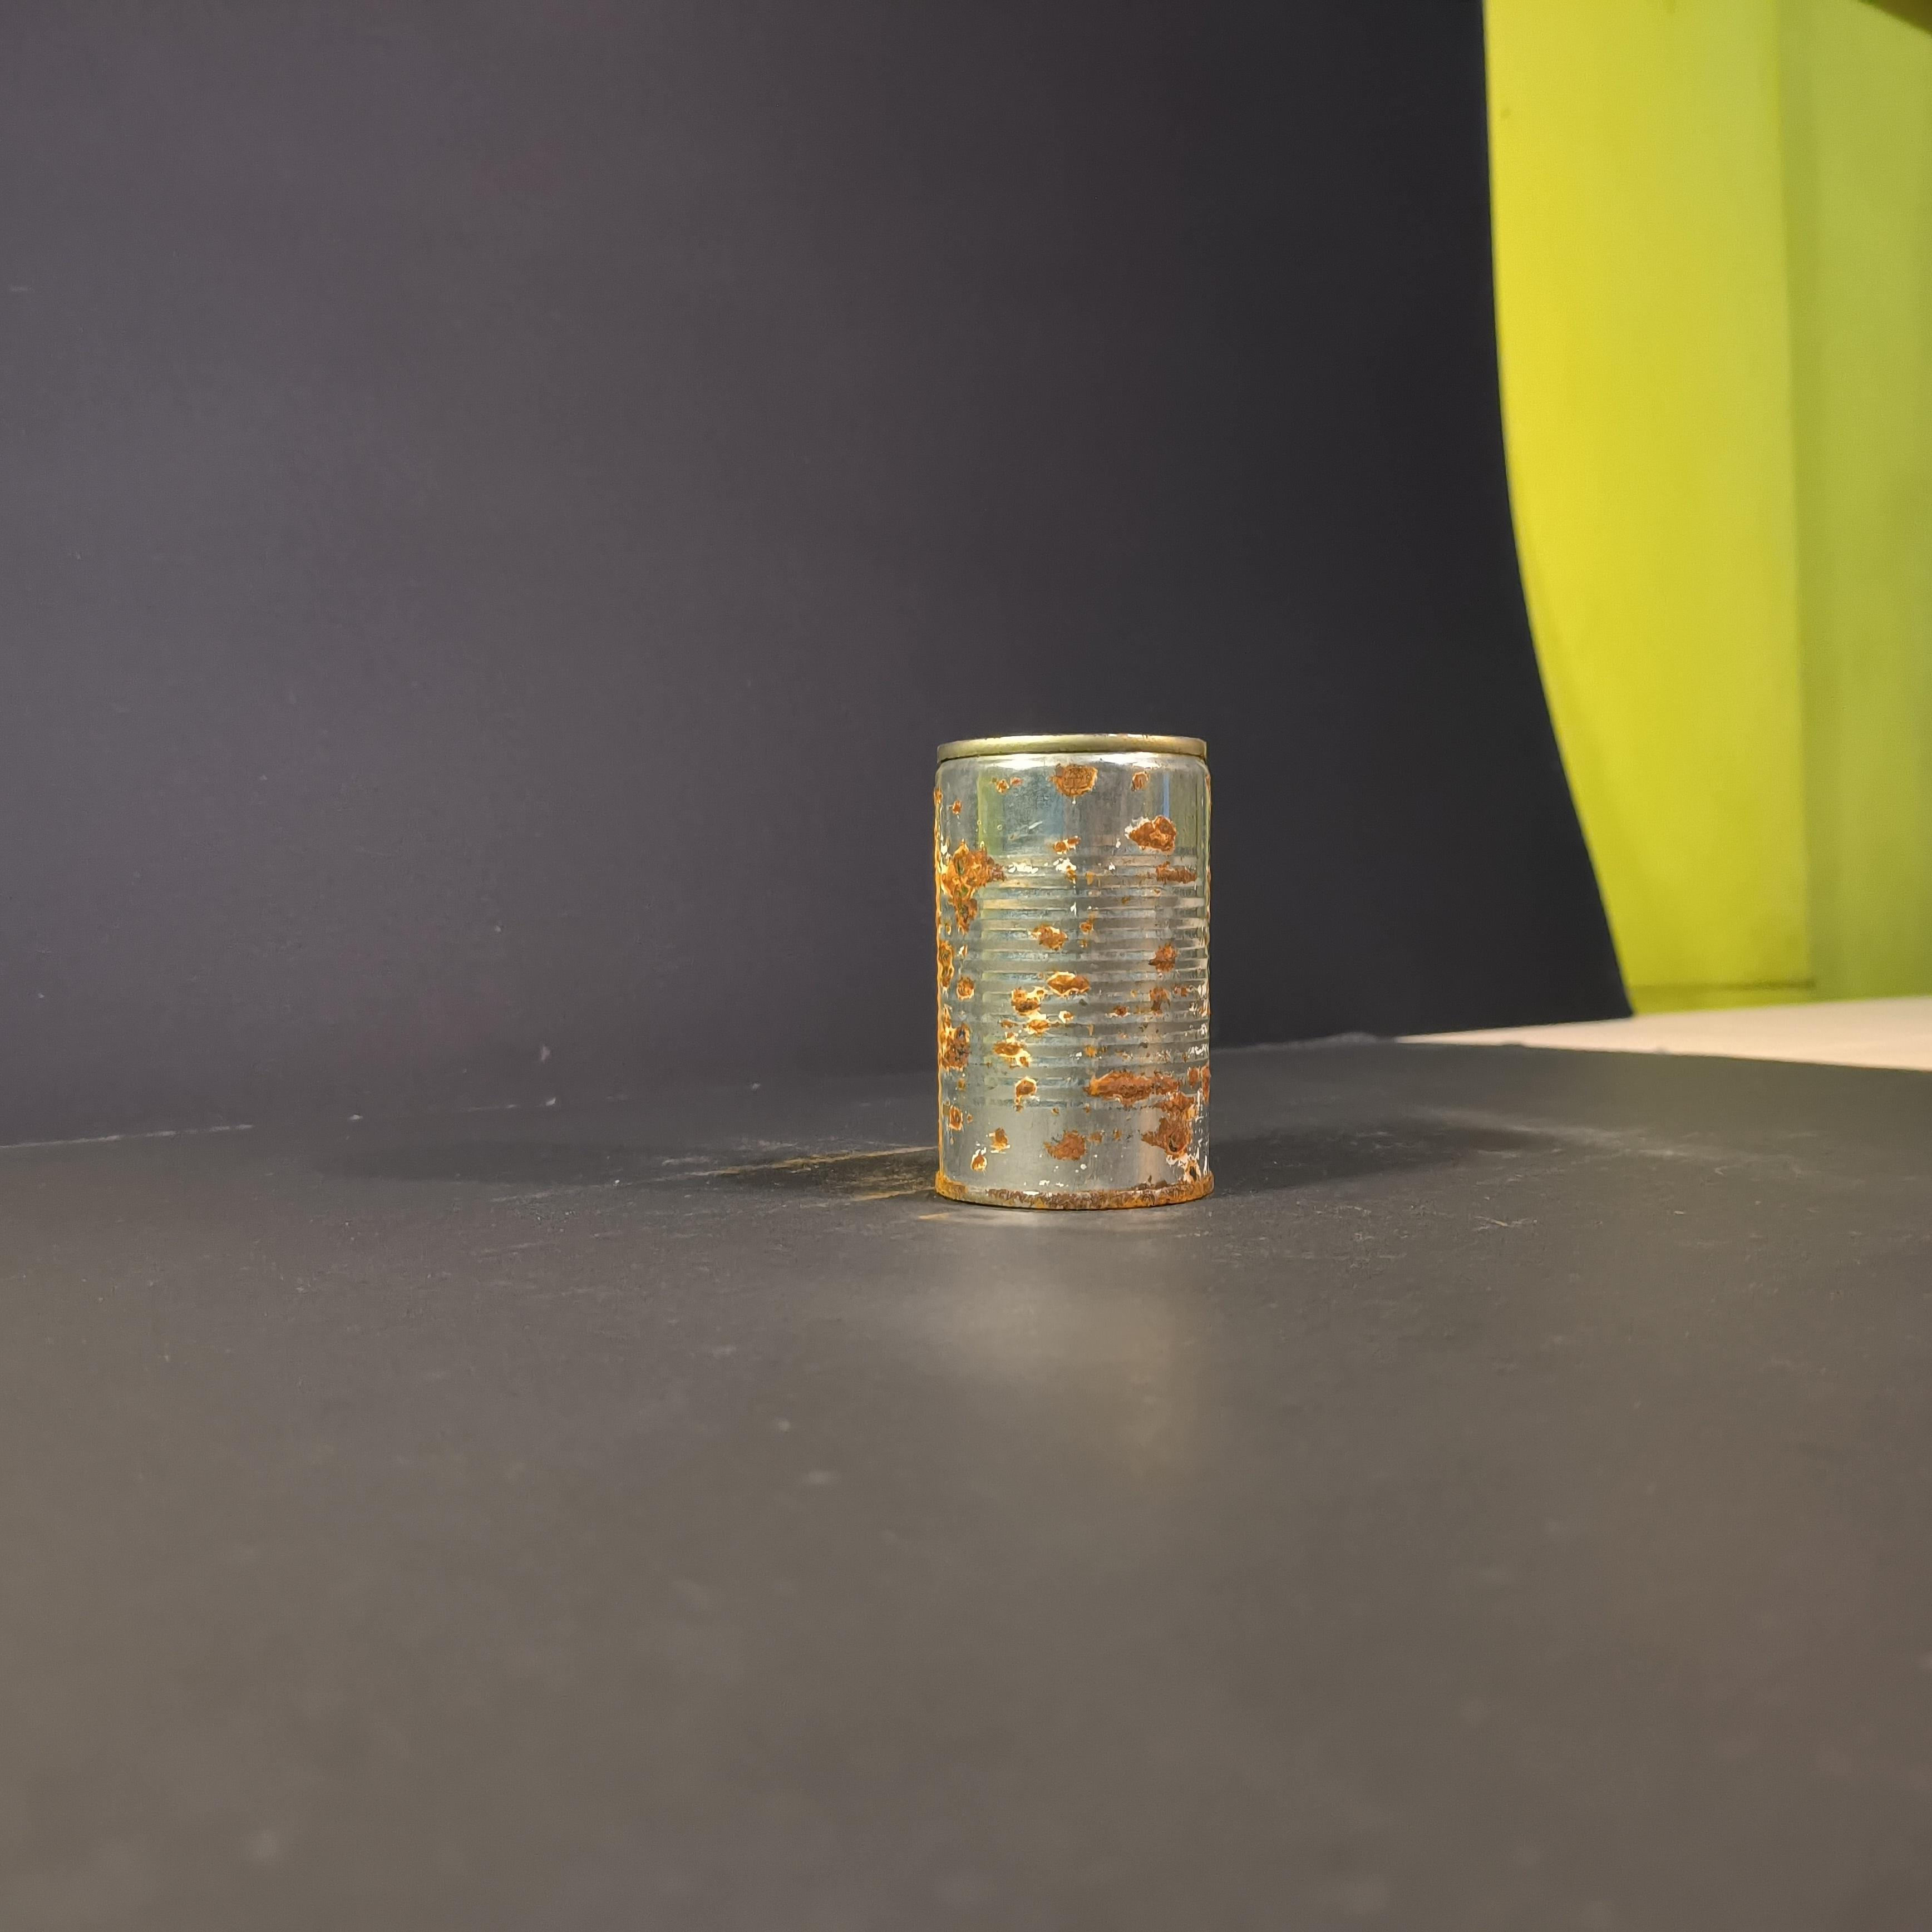Rusted: (909, 704, 1224, 1221)
